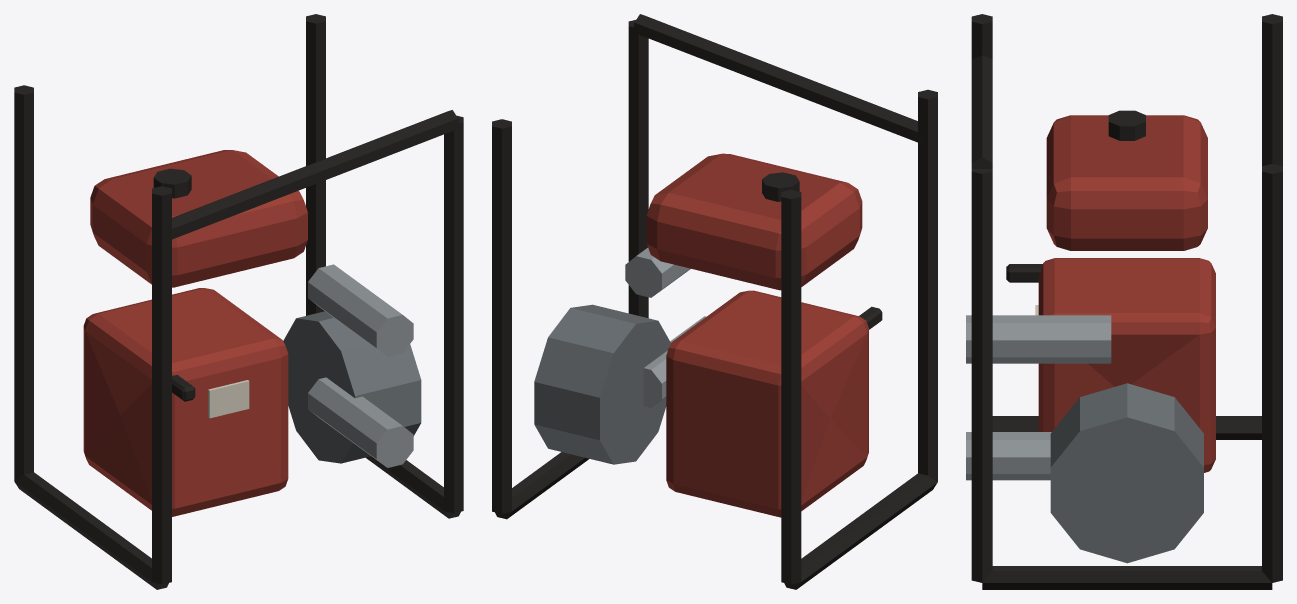
The model's file is water_pump_benzinovyy_idle.glb.
3 views of the same model, side by side, from view 1: azimuth 30°, elevation 25°; view 2: azimuth 150°, elevation 25°; view 3: azimuth 270°, elevation 25° (orthographic). The views are drawn at different scales.
Visible parts, largest first — view 1: water_pump_benzinovyy_idle; view 2: water_pump_benzinovyy_idle; view 3: water_pump_benzinovyy_idle.
Boxes of the visible parts, x1,y1,x2,y2 form: water_pump_benzinovyy_idle: (14, 14, 463, 589); water_pump_benzinovyy_idle: (492, 14, 937, 589); water_pump_benzinovyy_idle: (966, 14, 1282, 589).
Bounding box in the file's own units: 0.47 × 0.5879 × 0.393.
1 material, 1 textured.
